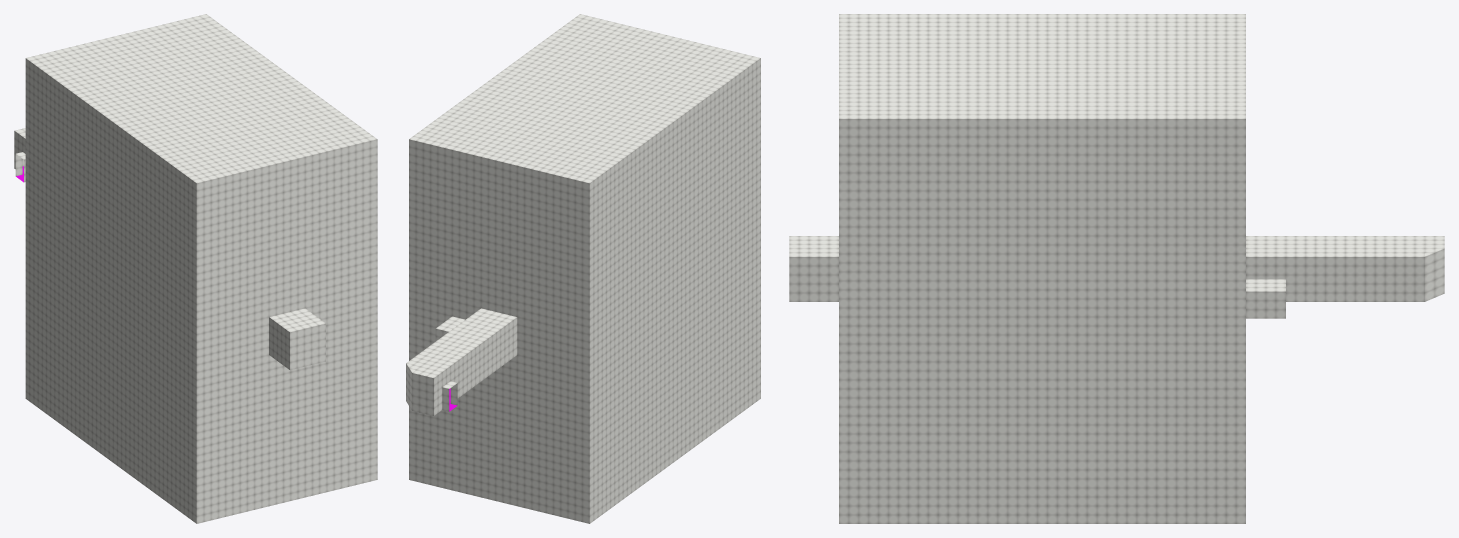
The model's file is level1_room.fbx.
The picture shows the model from 3 angles, left to right: view 1: azimuth 30°, elevation 25°; view 2: azimuth 150°, elevation 25°; view 3: azimuth 270°, elevation 25°; orthographic projection. The views are drawn at different scales.
Visible parts, largest first — view 1: level1; view 2: level1; view 3: level1.
Part boxes in pixels (box(x1,y1,x2,y2)): level1: box(14, 14, 377, 523); level1: box(406, 14, 760, 523); level1: box(789, 14, 1444, 523).
Bounding box in the file's own units: 66 × 25 × 45.
2 materials, 1 textured.
